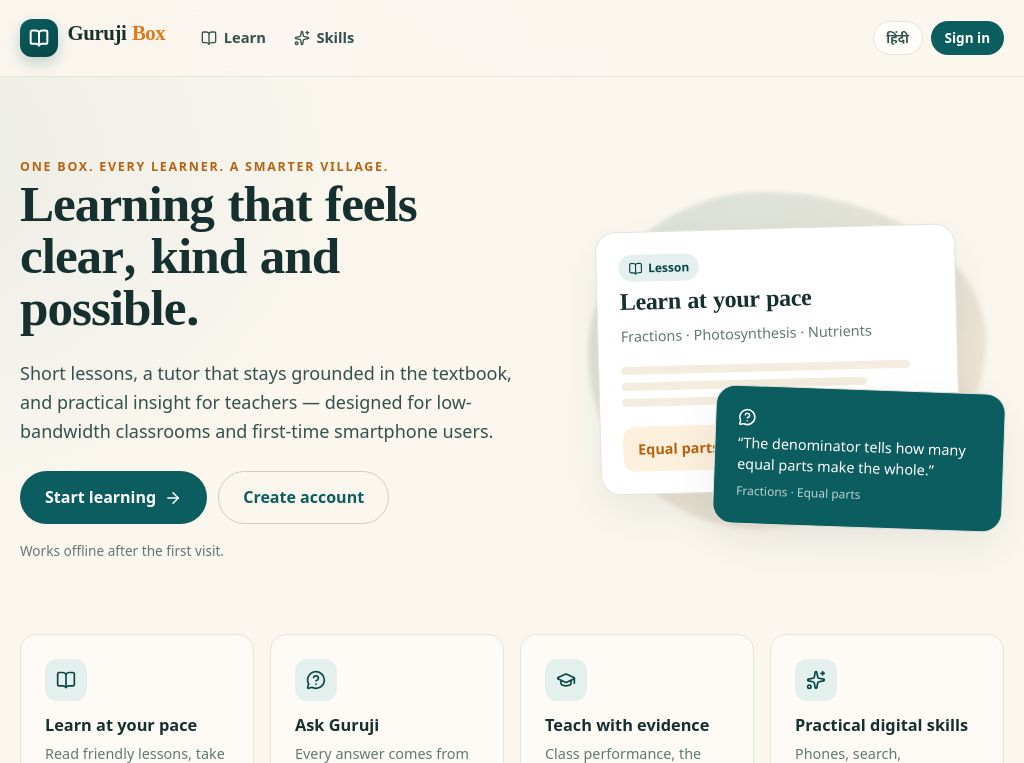
App › switches the interface to Hindi from the header
What coordinates should you click on to do the following:
click the button named "हिन्दी में बदलें"
I would click on:
 (898, 38)
Its box is [872,21,923,55].
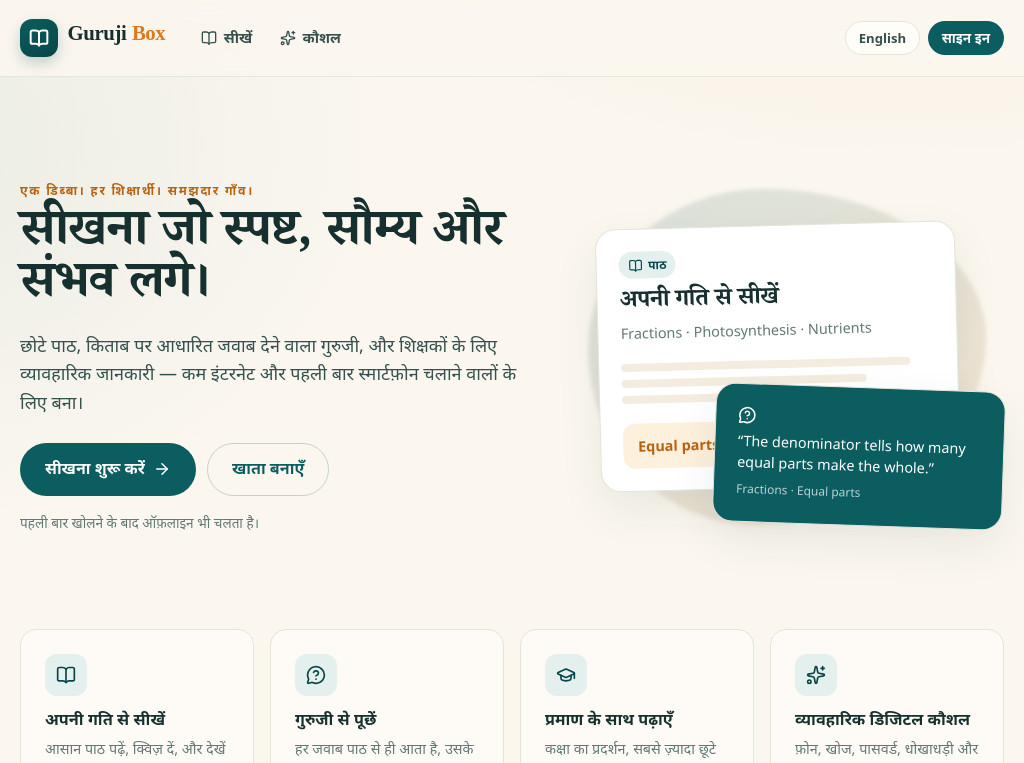
expect the heading "सीखना जो स्पष्ट, सौम्य और संभव लगे।" is shown: met, box [20,210,520,314]
